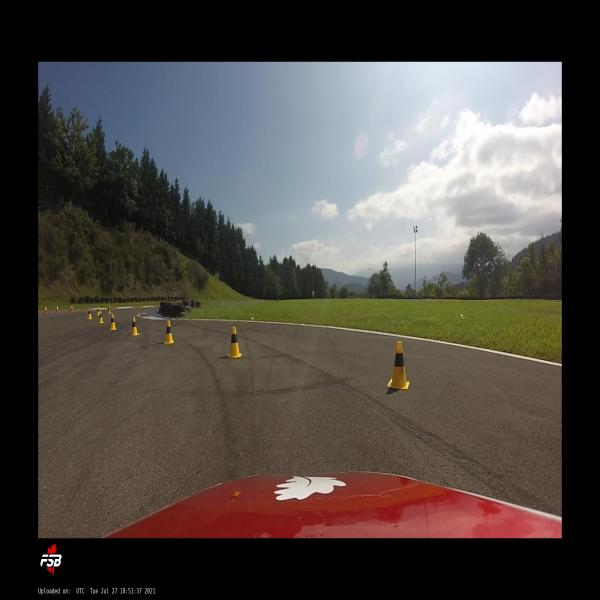orange_cone: (45, 305, 47, 314), (71, 306, 73, 312), (57, 305, 58, 313)
yellow_cone: (387, 340, 410, 390), (228, 326, 242, 358), (164, 320, 174, 344), (131, 316, 139, 336), (110, 314, 117, 330), (98, 310, 104, 324), (87, 306, 92, 320), (97, 306, 100, 316), (108, 305, 111, 315)
